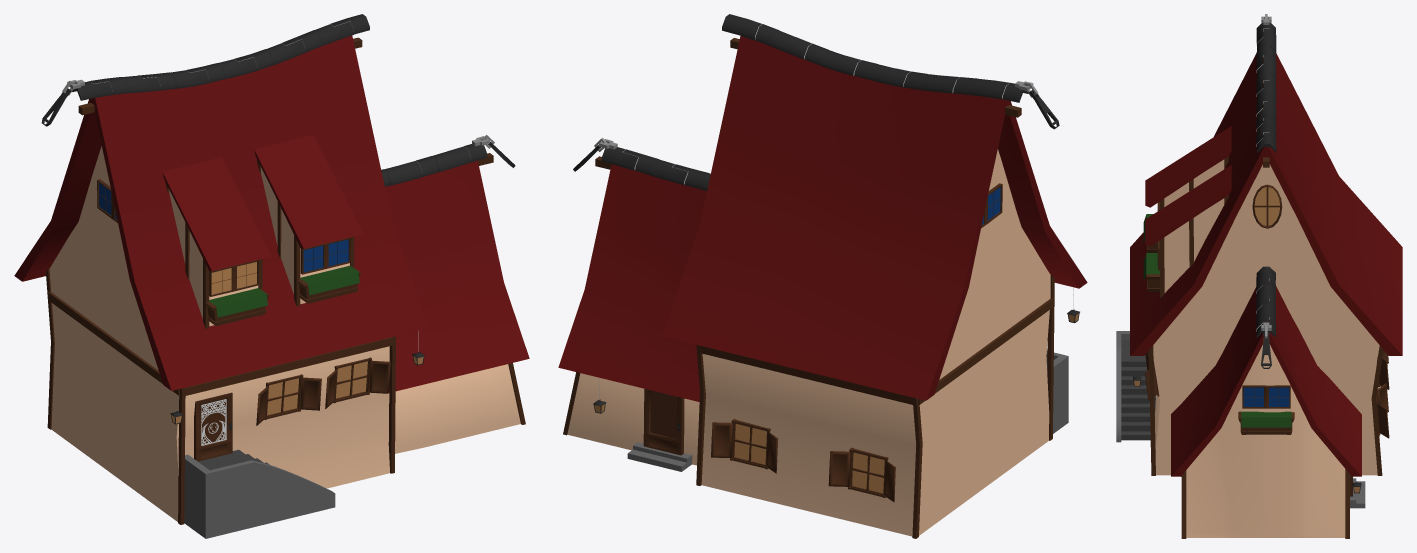
File: HouseVariation.1.fbx
3 views of the same model, side by side, from view 1: azimuth 30°, elevation 25°; view 2: azimuth 150°, elevation 25°; view 3: azimuth 270°, elevation 25° (orthographic). The views are drawn at different scales.
Parts seen in each view (by area): view 1: HouseVariation.1; view 2: HouseVariation.1; view 3: HouseVariation.1.
Part boxes in pixels (x1,y1,x2,y2): HouseVariation.1: (14,14,529,538); HouseVariation.1: (558,14,1087,538); HouseVariation.1: (1116,14,1402,538).
Size of the model in its own units: 2053 by 1694 by 1248.
